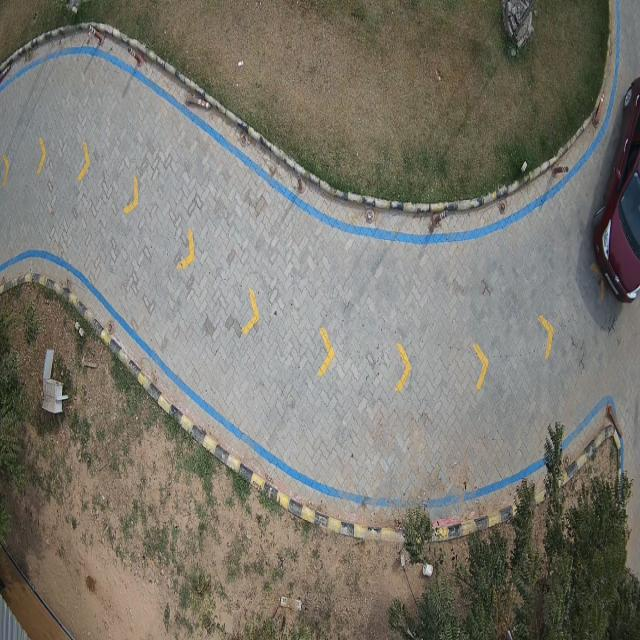car: (594, 78, 640, 301)
